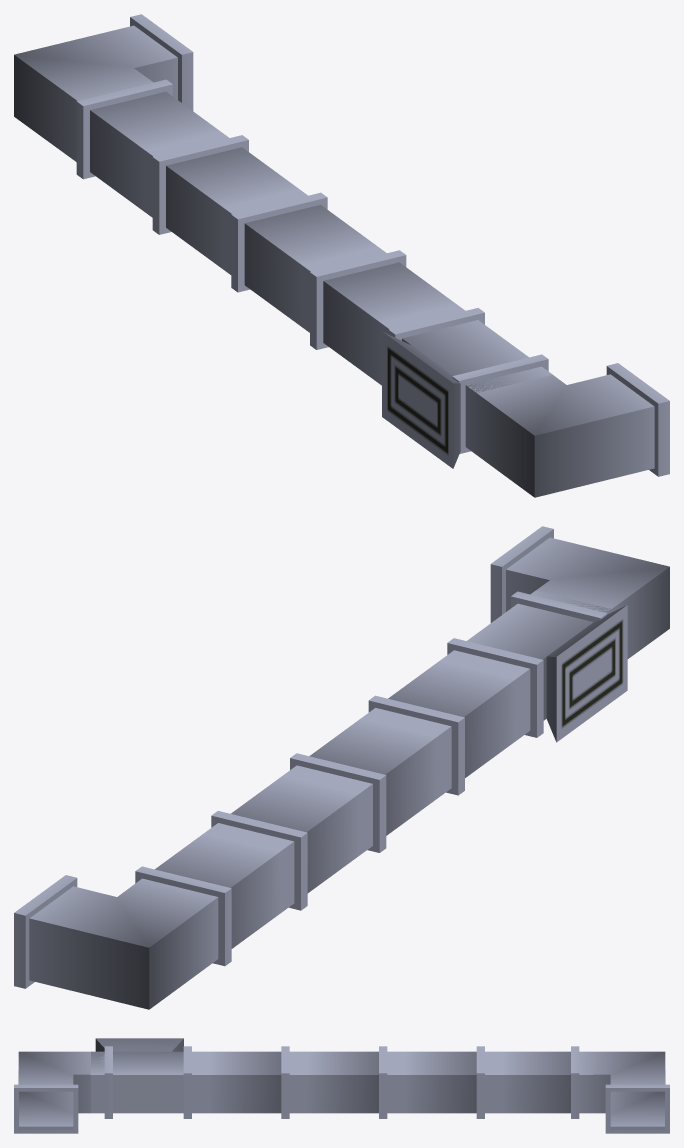
Rendered from ventilation1.fbx.
The picture shows the model from 3 angles, top to bottom: view 1: azimuth 30°, elevation 25°; view 2: azimuth 150°, elevation 25°; view 3: azimuth 270°, elevation 25°; orthographic projection. The views are drawn at different scales.
Visible parts, largest first — view 1: Куб.194; view 2: Куб.194; view 3: Куб.194.
Part boxes in pixels (x1=…): Куб.194: x1=14, y1=14, x2=669, y2=497; Куб.194: x1=14, y1=526, x2=669, y2=1009; Куб.194: x1=14, y1=1038, x2=669, y2=1133.
Size of the model in its own units: 109 by 59.1 by 660.
